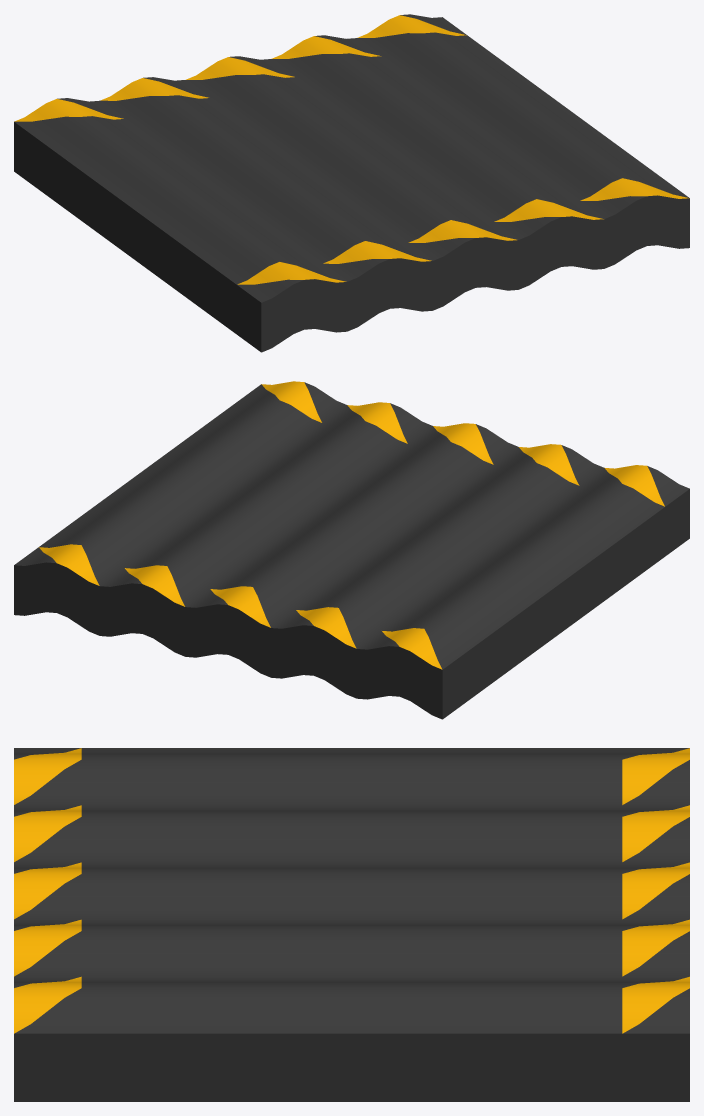
3 renders of one model, top to bottom at view 1: azimuth 30°, elevation 25°; view 2: azimuth 150°, elevation 25°; view 3: azimuth 270°, elevation 25°, orthographic. The views are drawn at different scales.
Visible parts, largest first — view 1: w1; view 2: w1; view 3: w1.
Boxes of the visible parts, x1=… form: w1: x1=14, y1=14, x2=689, y2=352; w1: x1=14, y1=381, x2=689, y2=719; w1: x1=14, y1=748, x2=689, y2=1101.
Bounding box in the file's own units: 9 × 1.25 × 9.
